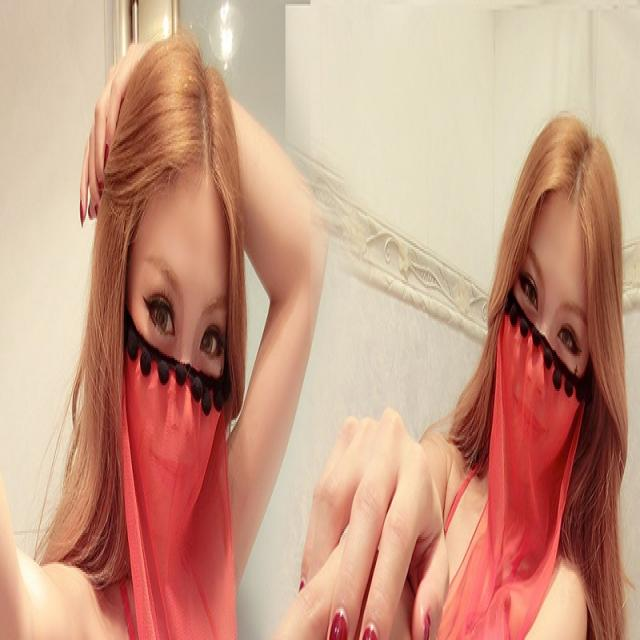mask: (124, 190, 224, 526), (504, 253, 592, 490)
